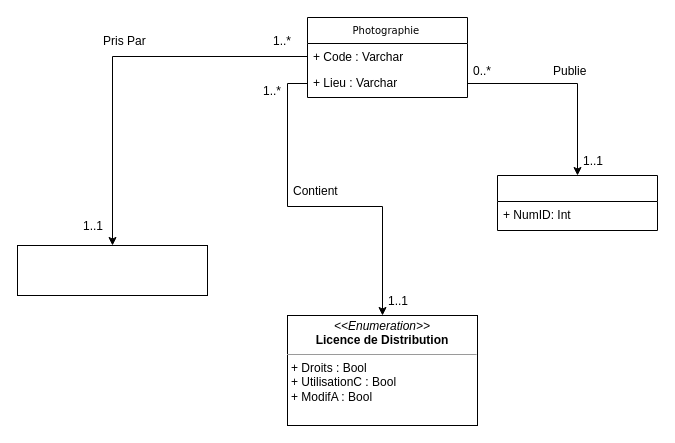
Image size: 675x443. Some labels were removed from this diagram. Each missing label, with the box of its shape:
Appareil Photo + Appareil-ID : Varchar: (16, 244, 208, 296)
Utilisateur: (496, 174, 658, 230)
